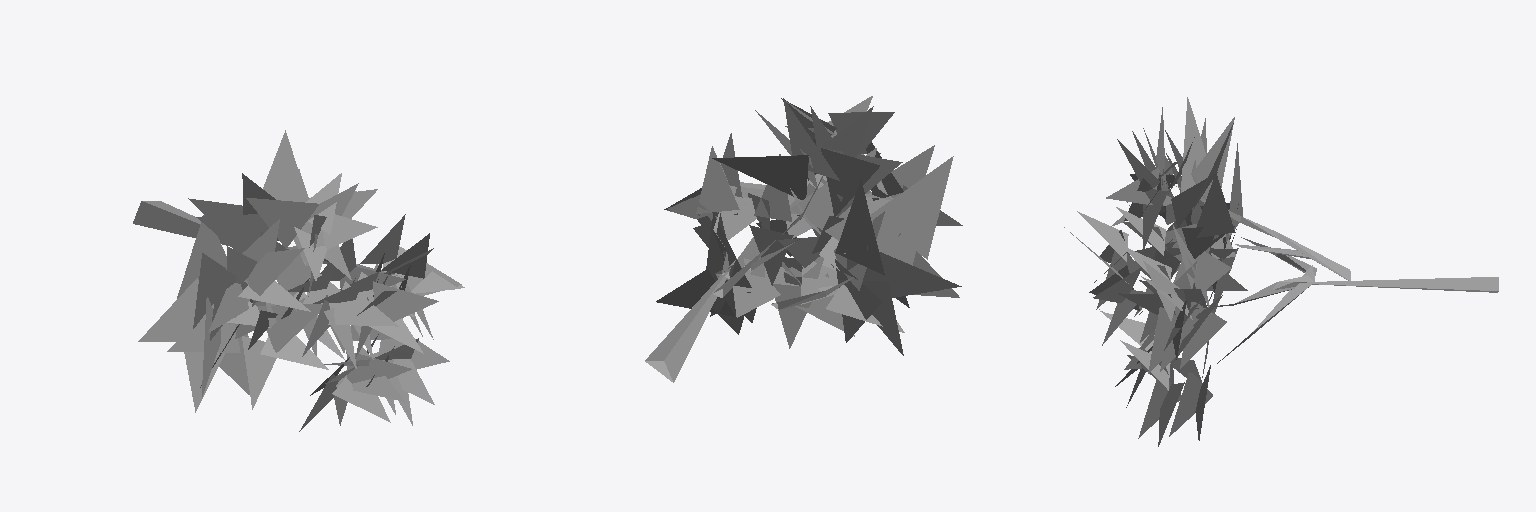
File: seasonalTree.obj
3 views of the same model, side by side, from view 1: azimuth 30°, elevation 25°; view 2: azimuth 150°, elevation 25°; view 3: azimuth 270°, elevation 25° (orthographic).
Visible parts, largest first — view 1: seasonalTree; view 2: seasonalTree; view 3: seasonalTree.
Boxes of the visible parts, x1,y1,x2,y2 form: seasonalTree: [133, 130, 464, 431]; seasonalTree: [645, 96, 962, 382]; seasonalTree: [1064, 97, 1498, 446].
Bounding box in the file's own units: 14.51 × 12.48 × 17.61.